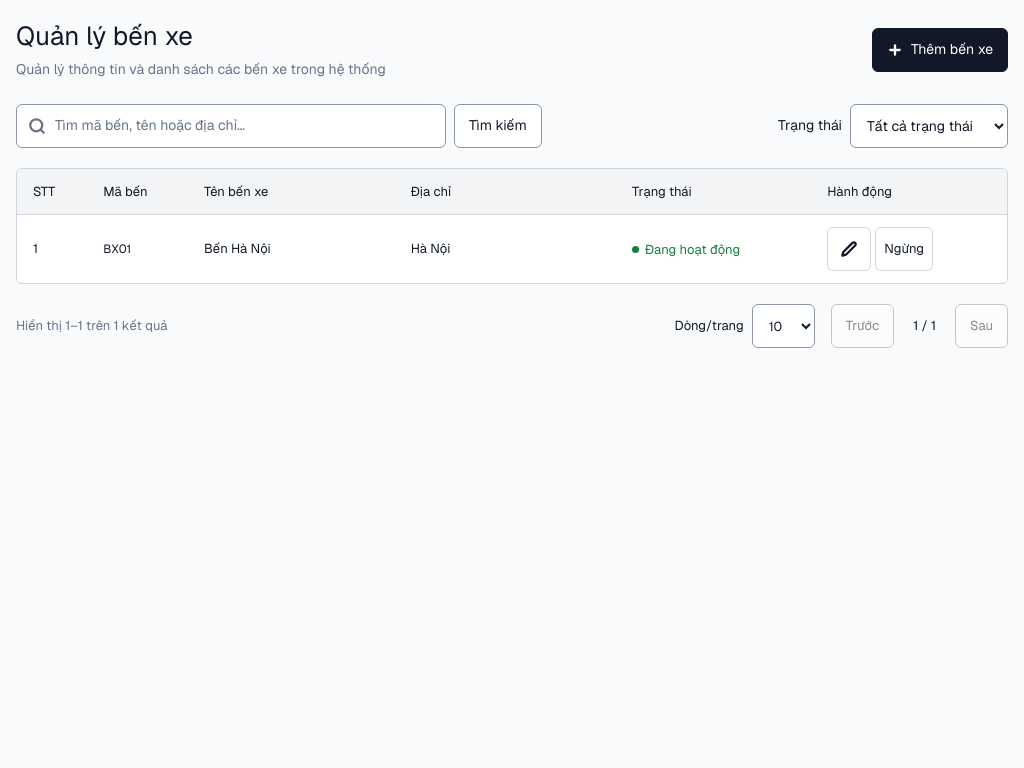
Test: Stations user flows › AC-2 reloads the API after an edit and reports success
The width and height of the screenshot is (1024, 768).
Expected: the table is shown, [17,168,1007,283]
Click the button named "Sửa Bến Hà Nội" at (849, 249), box [827,227,871,271]
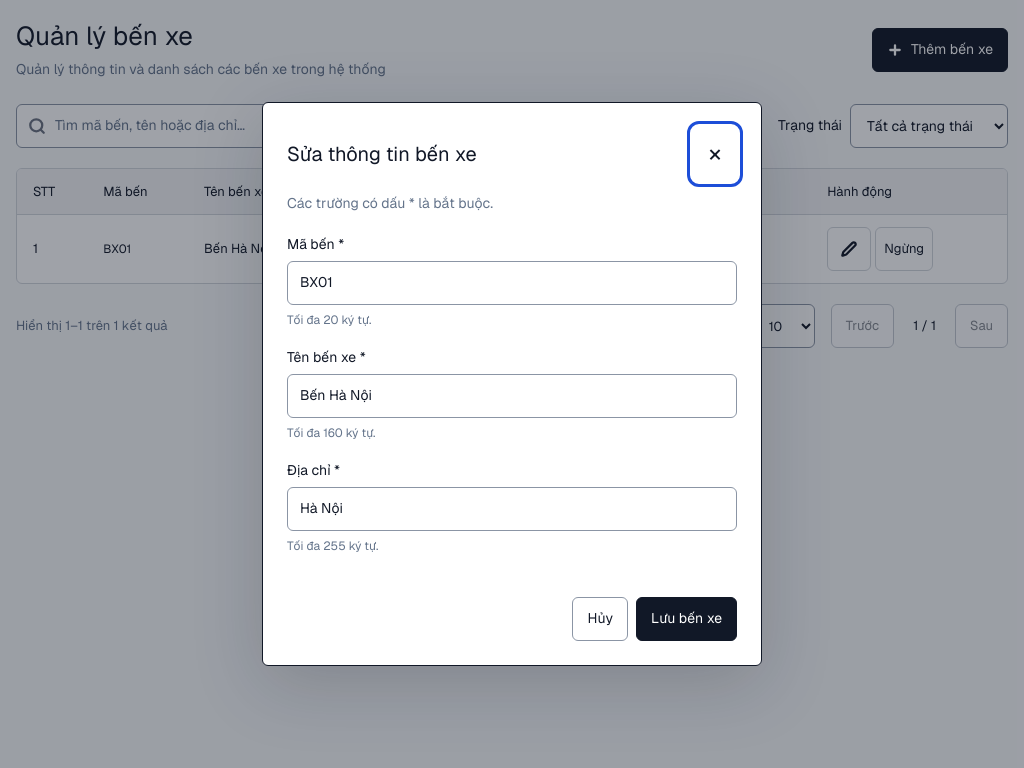
Replace the text in the field with placeholder "Nhập tên bến xe" with "Bến đã sửa" at (512, 396), box [287,374,737,418]
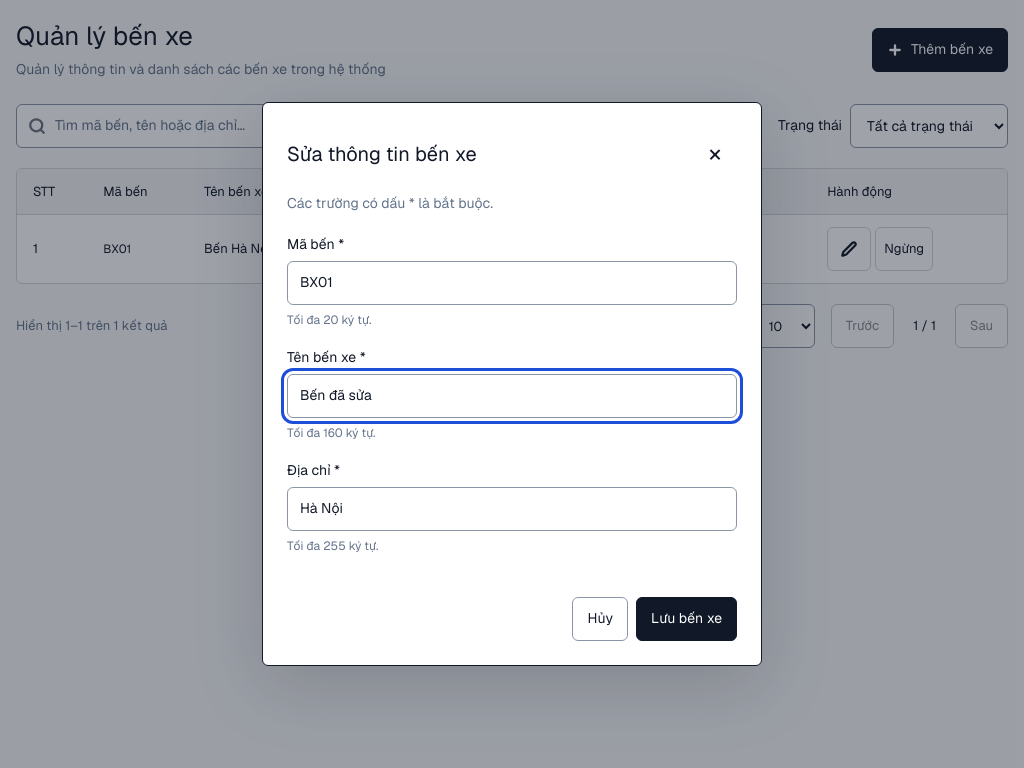
Click the button "Lưu bến xe" at (686, 619), box [636,597,737,641]
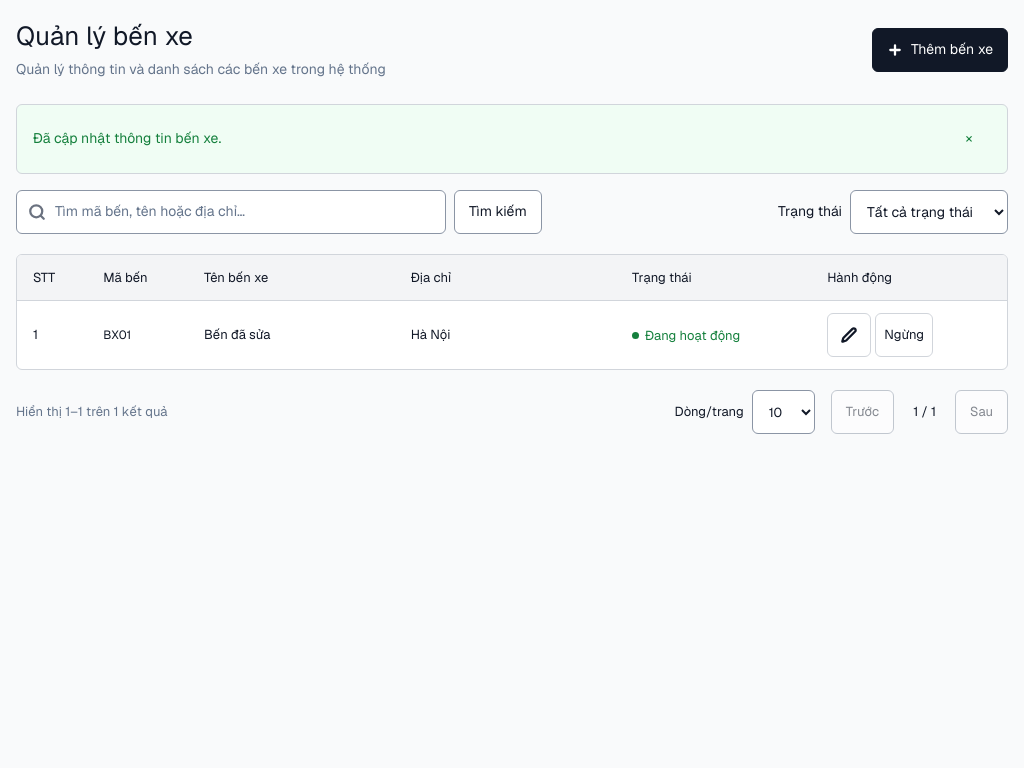
Result: the message shows "Đã cập nhật thông tin bến xe." at [33,129,221,147]
Result: the table shows "Bến đã sửa" at [204,326,270,343]
